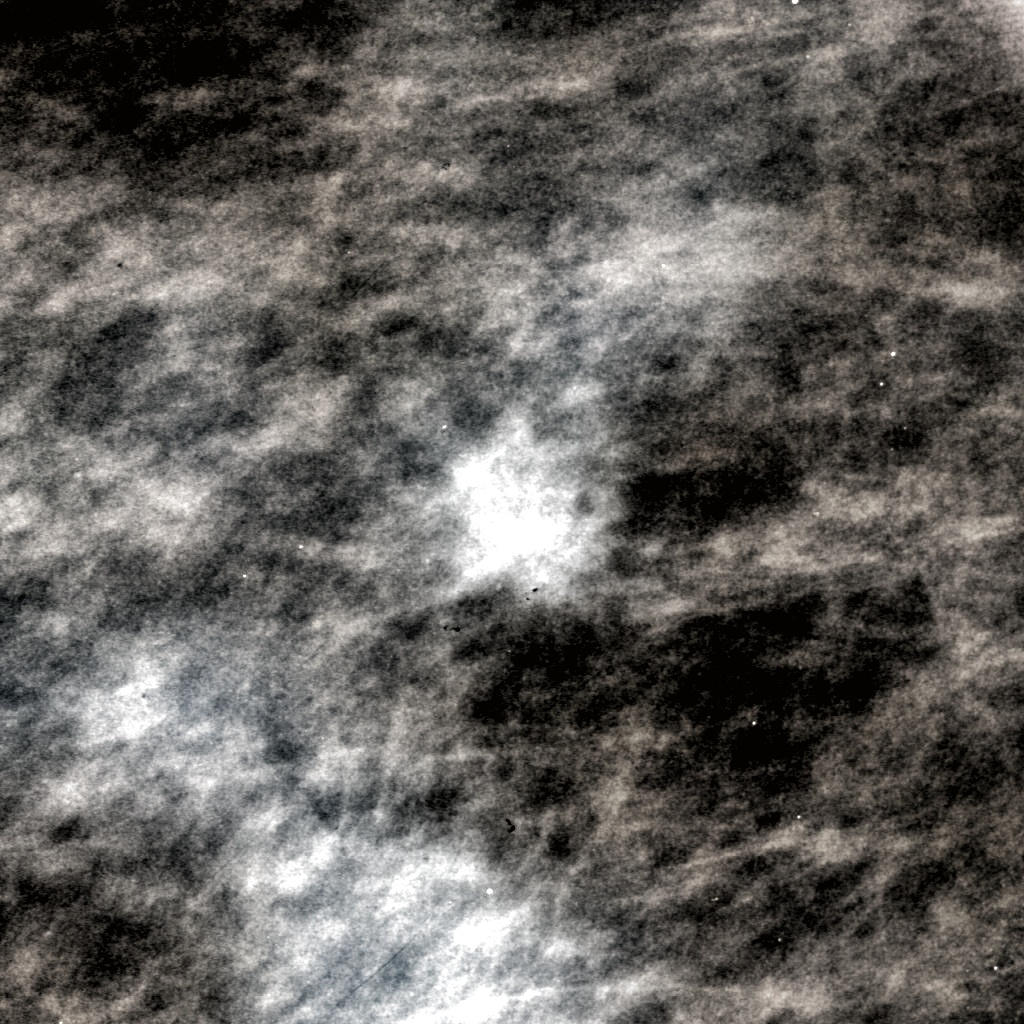tumor: (399, 402, 625, 622)
